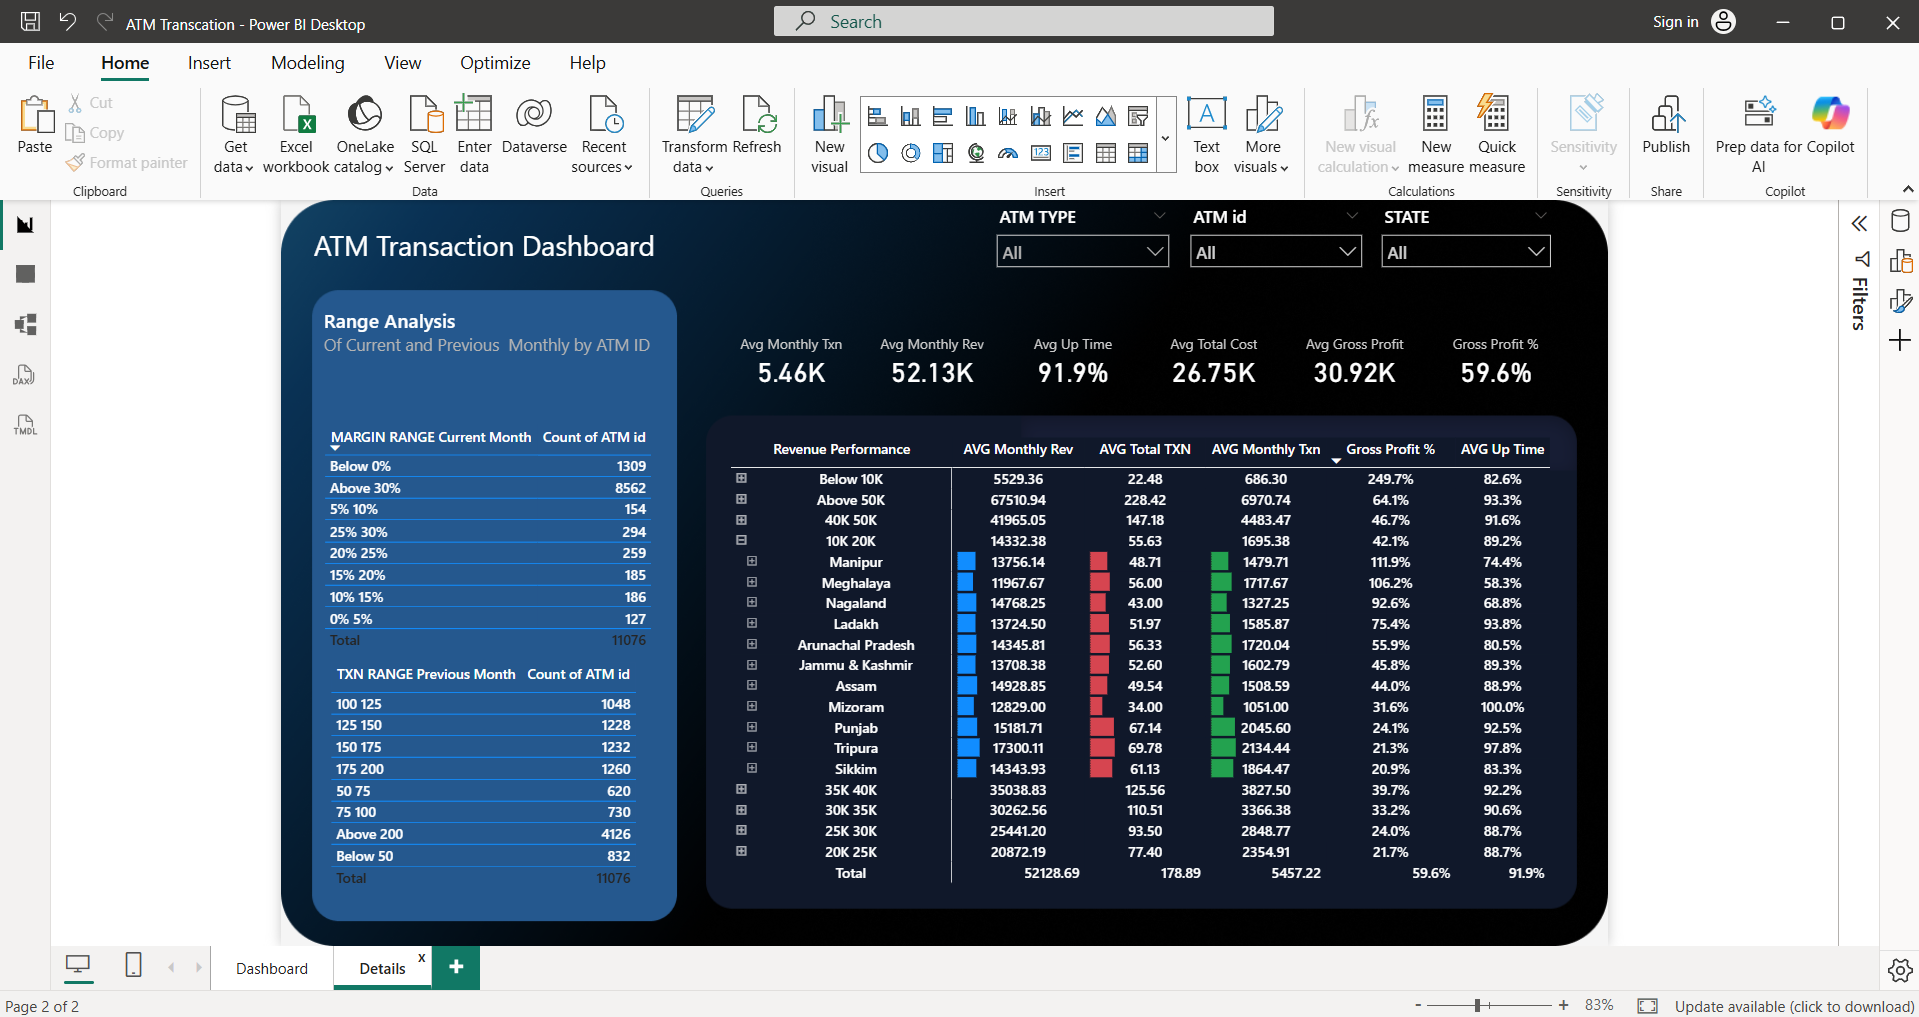

What the dashboard file says about the page in this screenshot:
{"tool":"powerbi","page":{"name":"Details","canvas":[1280,720],"ordinal":1},"visuals":[{"type":"tableEx","fields":{"Values":["Sheet1.MARGIN RANGE Current Month","Sheet1.ATM id"]},"box":[36.2,212.3,336.6,270.2],"z":0},{"type":"tableEx","fields":{"Values":["Sheet1.TXN RANGE Previous Month","Sheet1.ATM id"]},"box":[42.2,441.6,325.7,243.7],"z":1000},{"type":"textbox","box":[36.2,98.9,336.6,77.2],"z":2000},{"type":"pivotTable","fields":{"Rows":["Sheet1.Revenue Performance","Sheet1.STATE","Sheet1.ATM id"],"Values":["Avg(Sheet1.Monthly Rev)","Avg(Sheet1.AVG Total TXN)","Avg(Sheet1.Monthly Txn)","Sheet1.Gross Profit Percentage","Avg(Sheet1.Up Time)"]},"box":[429.5,224.4,838.5,460.9],"z":3000},{"type":"cardVisual","fields":{"Data":["Avg(Sheet1.Monthly Txn)","Avg(Sheet1.Monthly Rev)","Avg(Sheet1.Up Time)","Avg(Sheet1. Total Cost  )","Avg(Sheet1. Gross Profit )","Sheet1.Gross Profit Percentage"]},"box":[419.8,108.6,825.2,94.1],"z":4000},{"type":"textbox","box":[26.5,20.5,349.9,49.5],"z":5000},{"type":"slicer","fields":{"Values":["Sheet1.ATM TYPE"]},"box":[680.4,0,187,70],"z":6000},{"type":"slicer","fields":{"Values":["Sheet1.ATM id"]},"box":[867.4,0,185.8,72.4],"z":7000},{"type":"slicer","fields":{"Values":["Sheet1.STATE"]},"box":[1052,0,183.4,70],"z":8000}]}

Visuals, with their boxes on the page's 1280x720 design canvas (x1, y1, x2, y2). These are canvas units, not pixel positions in the 1919x1017 screenshot, which may show the page scaled, cropped or inside an application window:
tableEx - Sheet1.MARGIN RANGE Current Month x Sheet1.ATM id: bbox=[36, 212, 373, 482]
tableEx - Sheet1.TXN RANGE Previous Month x Sheet1.ATM id: bbox=[42, 442, 368, 685]
textbox: bbox=[36, 99, 373, 176]
pivotTable - Sheet1.Revenue Performance x Sheet1.STATE: bbox=[430, 224, 1268, 685]
cardVisual - Avg(Sheet1.Monthly Txn) x Avg(Sheet1.Monthly Rev): bbox=[420, 109, 1245, 203]
textbox: bbox=[26, 20, 376, 70]
slicer - Sheet1.ATM TYPE: bbox=[680, 0, 867, 70]
slicer - Sheet1.ATM id: bbox=[867, 0, 1053, 72]
slicer - Sheet1.STATE: bbox=[1052, 0, 1235, 70]
